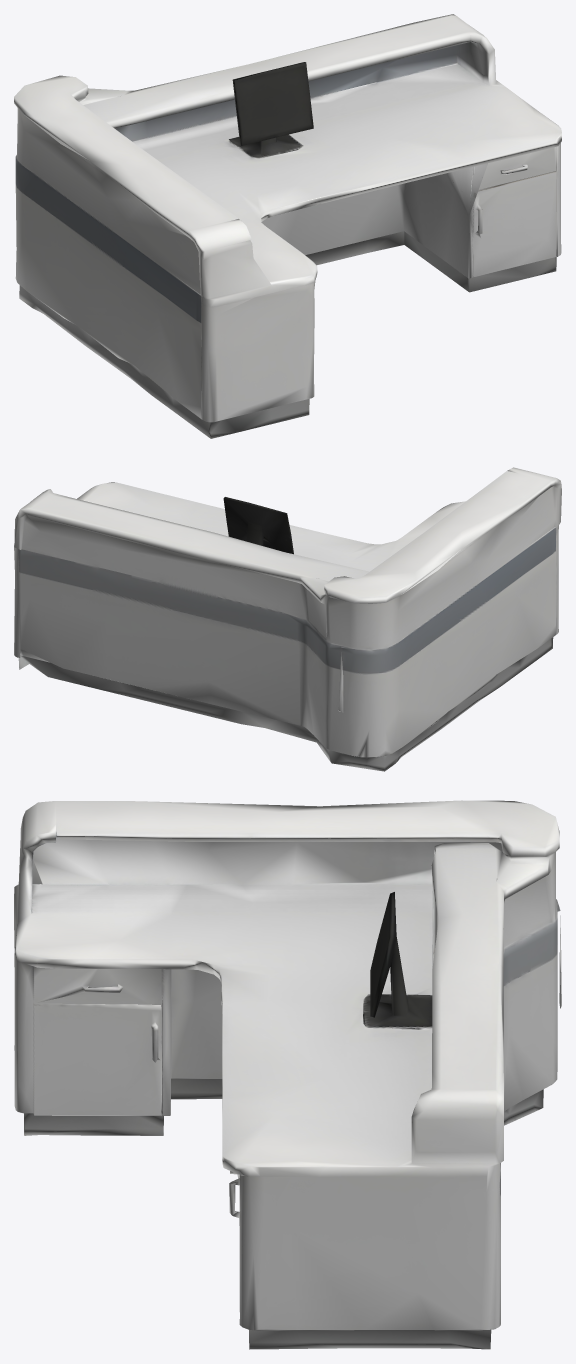
File: ENV_ALL_015_v001_RAW.glb.glb
3 views of the same model, one above another, from view 1: azimuth 30°, elevation 25°; view 2: azimuth 150°, elevation 25°; view 3: azimuth 270°, elevation 25° (orthographic). The views are drawn at different scales.
Parts seen in each view (by area): view 1: tripo_node_e53d5b50-cf79-4173-85cf-fd5865da9b54; view 2: tripo_node_e53d5b50-cf79-4173-85cf-fd5865da9b54; view 3: tripo_node_e53d5b50-cf79-4173-85cf-fd5865da9b54.
Boxes of the visible parts, box(x1,y1,x2,y2) form: tripo_node_e53d5b50-cf79-4173-85cf-fd5865da9b54: box(14, 14, 561, 438); tripo_node_e53d5b50-cf79-4173-85cf-fd5865da9b54: box(14, 467, 561, 771); tripo_node_e53d5b50-cf79-4173-85cf-fd5865da9b54: box(14, 800, 561, 1349).
Size of the model in its own units: 0.9789 by 0.4553 by 0.7888.
1 material, 1 textured.
